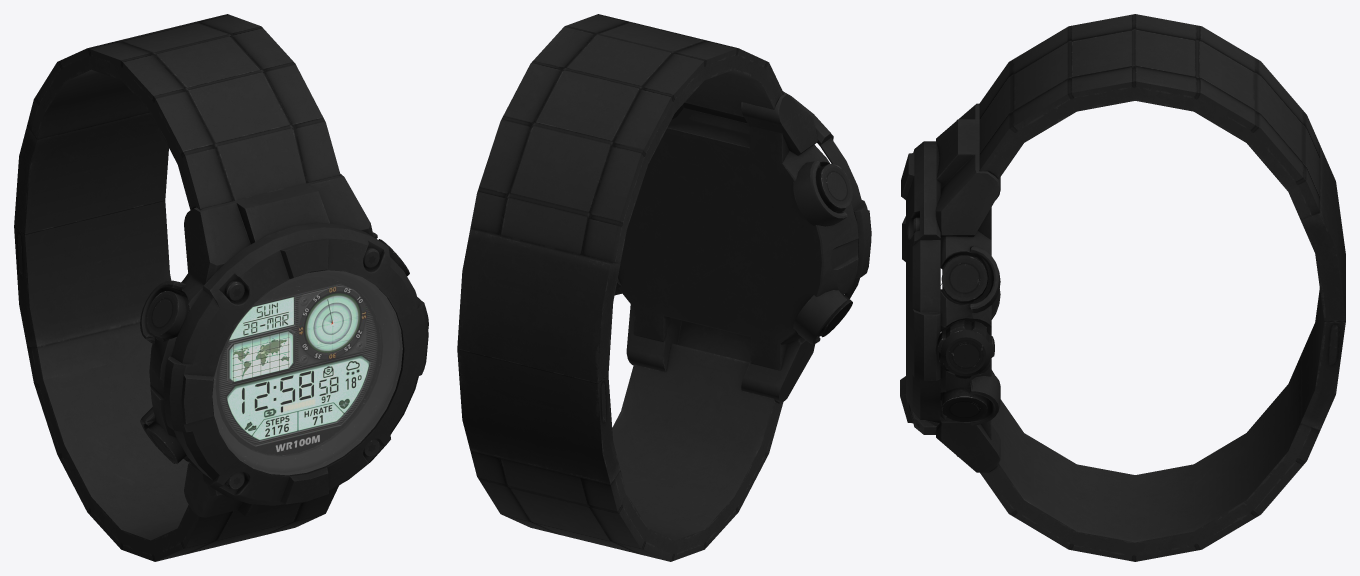
The model's file is watch.glb.
3 renders of one model, left to right at view 1: azimuth 30°, elevation 25°; view 2: azimuth 150°, elevation 25°; view 3: azimuth 270°, elevation 25°, orthographic.
Visible parts, largest first — view 1: Band, Case, Glass; view 2: Band, Case; view 3: Band, Case.
Part boxes in pixels (bbox=[...]): Band: bbox=[14, 14, 340, 561]; Case: bbox=[140, 174, 428, 517]; Glass: bbox=[212, 270, 402, 474]; Band: bbox=[457, 14, 783, 561]; Case: bbox=[614, 91, 871, 402]; Band: bbox=[979, 14, 1345, 561]; Case: bbox=[900, 103, 1000, 472].
Size of the model in its own units: 0.0415 by 0.0717 by 0.0602.
Materials: 4 (4 with a texture image).
